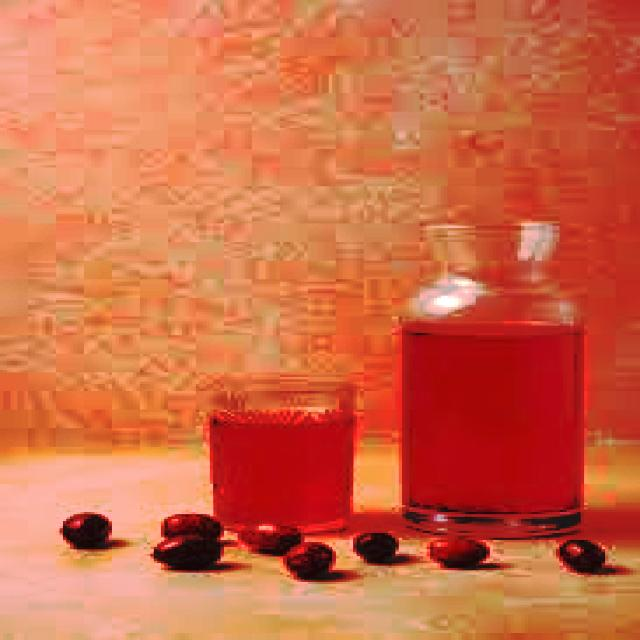drink: (200, 368, 368, 542)
